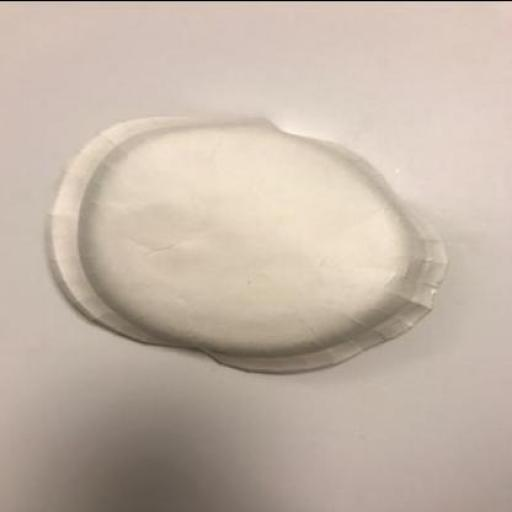paper: (48, 110, 447, 372)
